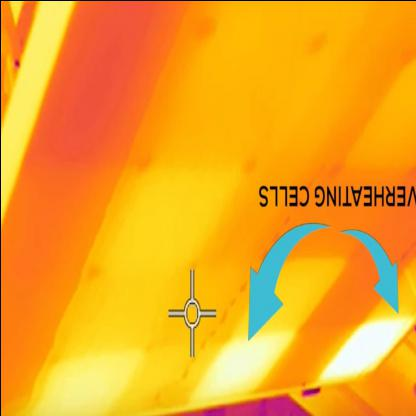Defects: (280, 162, 356, 315)
